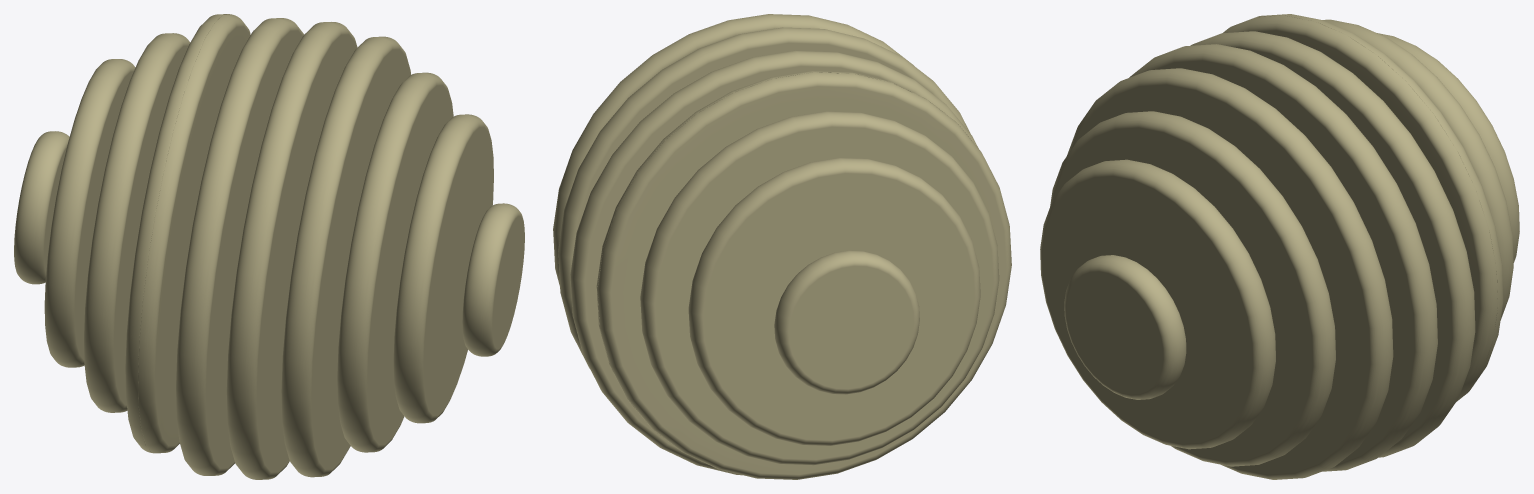
3 renders of one model, left to right at view 1: azimuth 30°, elevation 25°; view 2: azimuth 150°, elevation 25°; view 3: azimuth 270°, elevation 25°, orthographic. The views are drawn at different scales.
Visible parts, largest first — view 1: Cylinder005001, Cylinder004001, Cylinder005002, Cylinder009001, Cylinder003001, Cylinder002001, Cylinder008001, Cylinder007001, Cylinder001001, Cylinder006001; view 2: Cylinder007001, Cylinder009001, Cylinder008001, Cylinder006001, Cylinder005002, Cylinder005001, Cylinder004001; view 3: Cylinder002001, Cylinder004001, Cylinder003001, Cylinder005001, Cylinder005002, Cylinder009001, Cylinder001001, Cylinder008001, Cylinder007001.
Part boxes in pixels (x1,y1,x2,y2): Cylinder005001: (226,22,357,479); Cylinder004001: (281,36,410,477); Cylinder005002: (176,18,303,475); Cylinder009001: (125,14,250,453); Cylinder003001: (337,72,453,452); Cylinder002001: (393,114,493,423); Cylinder008001: (84,33,190,412); Cylinder007001: (44,59,135,367); Cylinder001001: (462,203,524,356); Cylinder006001: (14,131,69,284); Cylinder007001: (688,158,980,445); Cylinder009001: (596,71,1011,479); Cylinder008001: (640,111,999,465); Cylinder006001: (774,250,919,394); Cylinder005002: (570,50,978,475); Cylinder005001: (558,27,970,368); Cylinder004001: (553,14,913,285); Cylinder002001: (1040,159,1275,449); Cylinder004001: (1067,68,1393,479); Cylinder003001: (1050,111,1335,466); Cylinder005001: (1129,44,1437,471); Cylinder005002: (1191,31,1475,457); Cylinder009001: (1222,14,1503,401); Cylinder001001: (1064,255,1186,399); Cylinder008001: (1323,19,1513,319); Cylinder007001: (1377,33,1519,262).
Size of the model in its own units: 2.39 by 2.28 by 2.38.
